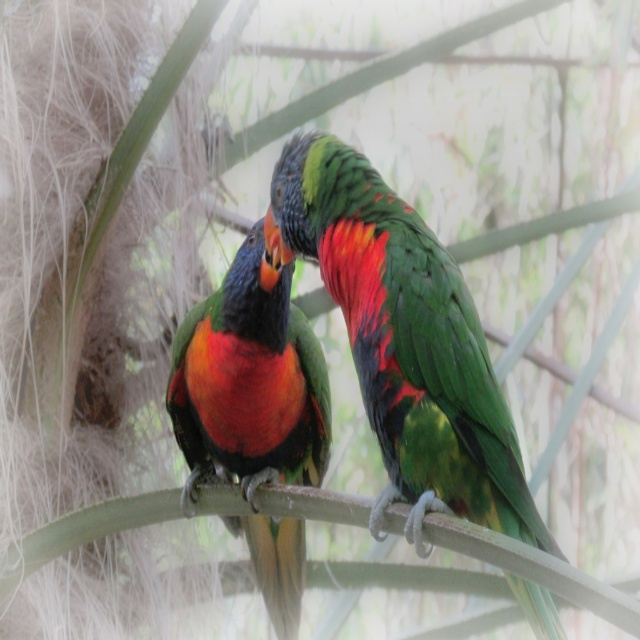Parrot: (264, 113, 572, 566), (162, 209, 337, 638)
